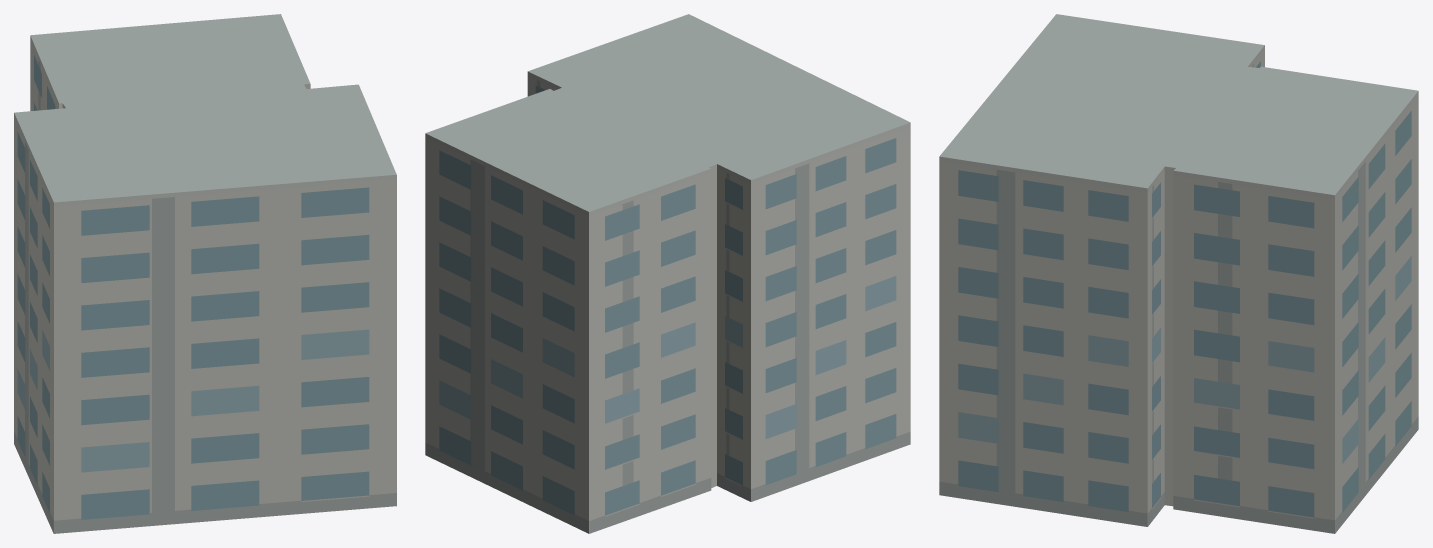
The model's file is survey-upis-32893065.glb.
3 views of the same model, side by side, from view 1: azimuth 30°, elevation 25°; view 2: azimuth 150°, elevation 25°; view 3: azimuth 270°, elevation 25° (orthographic). The views are drawn at different scales.
Visible parts, largest first — view 1: survey-upis-32893065.tmp; view 2: survey-upis-32893065.tmp; view 3: survey-upis-32893065.tmp.
Part boxes in pixels (left/top/right/bottom): survey-upis-32893065.tmp: left=14, top=14, right=396, bottom=533; survey-upis-32893065.tmp: left=425, top=14, right=910, bottom=533; survey-upis-32893065.tmp: left=939, top=14, right=1418, bottom=533.
Bounding box in the file's own units: 21.59 × 18.8 × 24.13.
